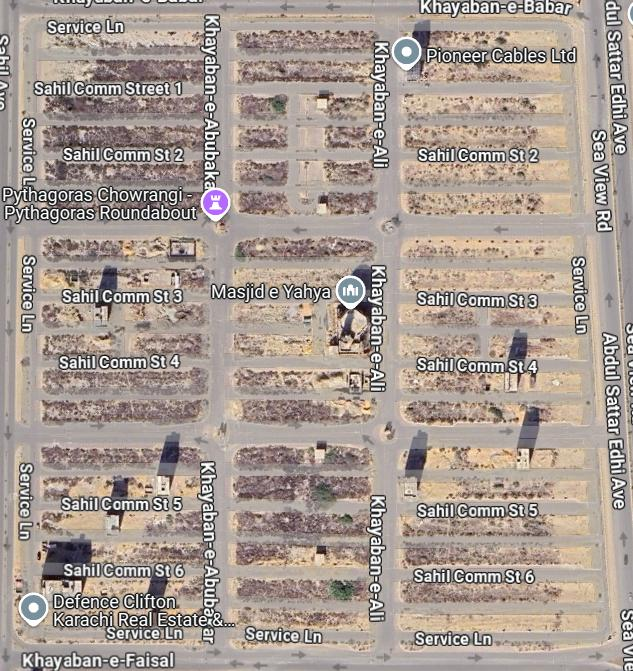Buildings: (399, 447, 600, 630), (403, 236, 589, 423), (40, 33, 205, 219), (400, 32, 570, 212), (38, 442, 201, 629), (42, 239, 202, 423), (232, 239, 376, 423), (234, 30, 375, 210), (232, 446, 370, 629)
